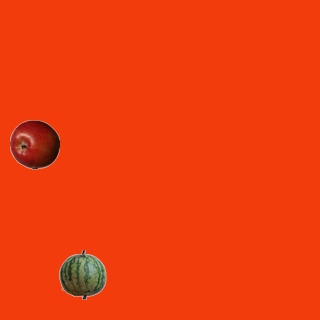Apple Braeburn: (9, 119, 59, 169)
Watermelon: (57, 249, 107, 299)
